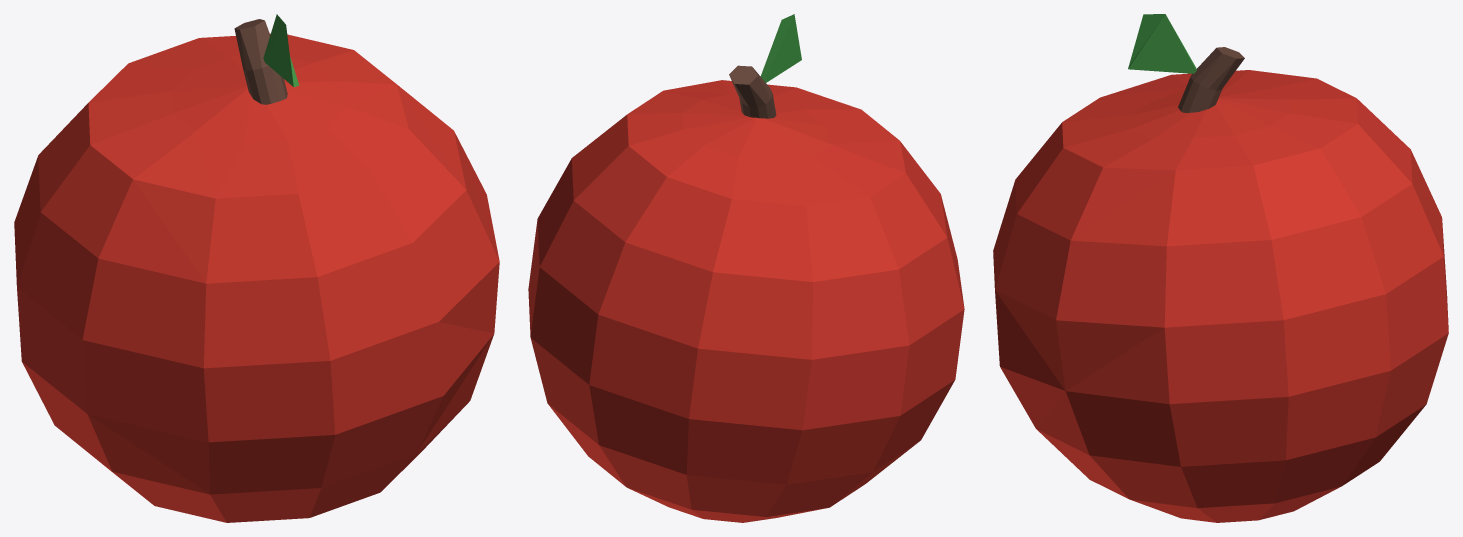
3 renders of one model, left to right at view 1: azimuth 30°, elevation 25°; view 2: azimuth 150°, elevation 25°; view 3: azimuth 270°, elevation 25°, orthographic. The views are drawn at different scales.
Visible parts, largest first — view 1: node_MeshObject-1600528128-PolyPaper10; view 2: node_MeshObject-1600528128-PolyPaper10; view 3: node_MeshObject-1600528128-PolyPaper10.
Boxes of the visible parts, bbox=[...] form: node_MeshObject-1600528128-PolyPaper10: bbox=[14, 14, 499, 522]; node_MeshObject-1600528128-PolyPaper10: bbox=[528, 14, 964, 522]; node_MeshObject-1600528128-PolyPaper10: bbox=[993, 14, 1448, 522].
Size of the model in its own units: 0.3887 by 0.4558 by 0.3906.
